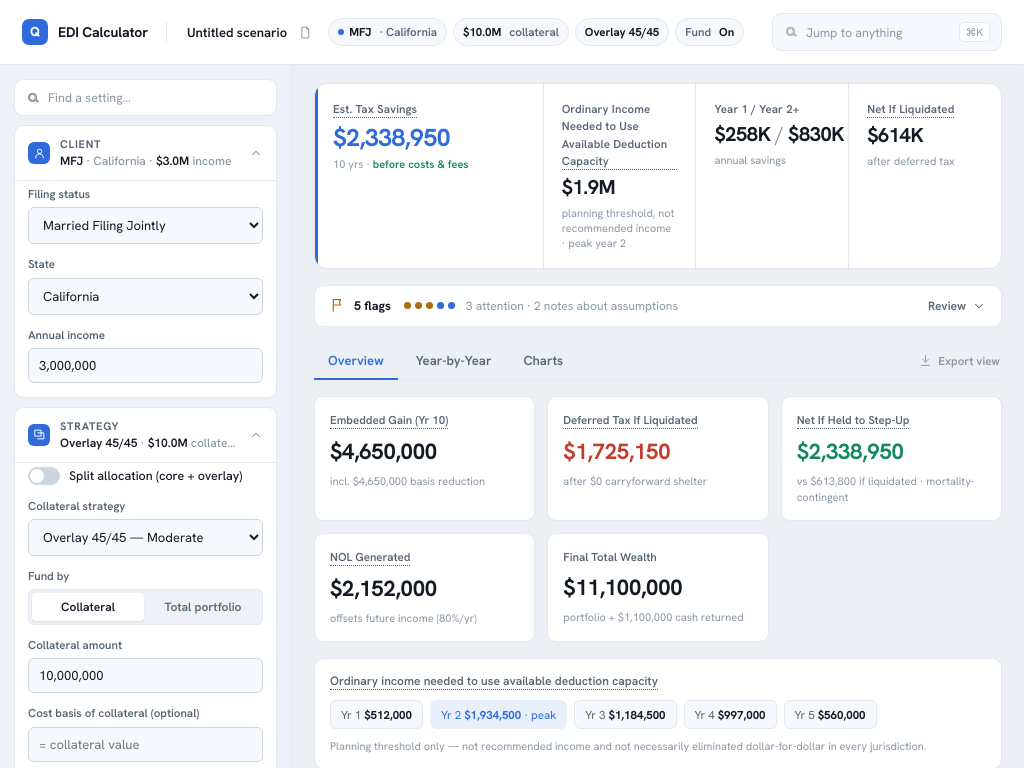
Test: Workspace redesign (D-027) › scenario name is inline-editable and persists to localStorage
Click the button with test id "wx-scenario-name" at (237, 32), box [183,22,291,42]
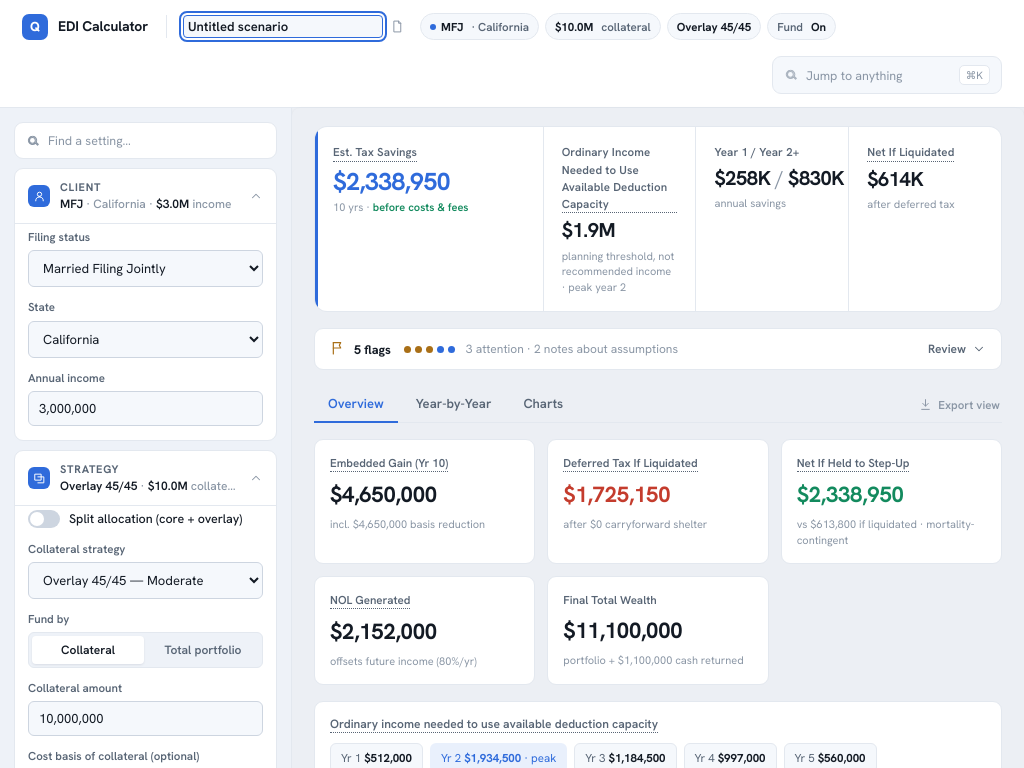
Replace the text in the field named "Scenario name" with "Henderson — Business Sale" at (283, 27), box [183,15,383,38]
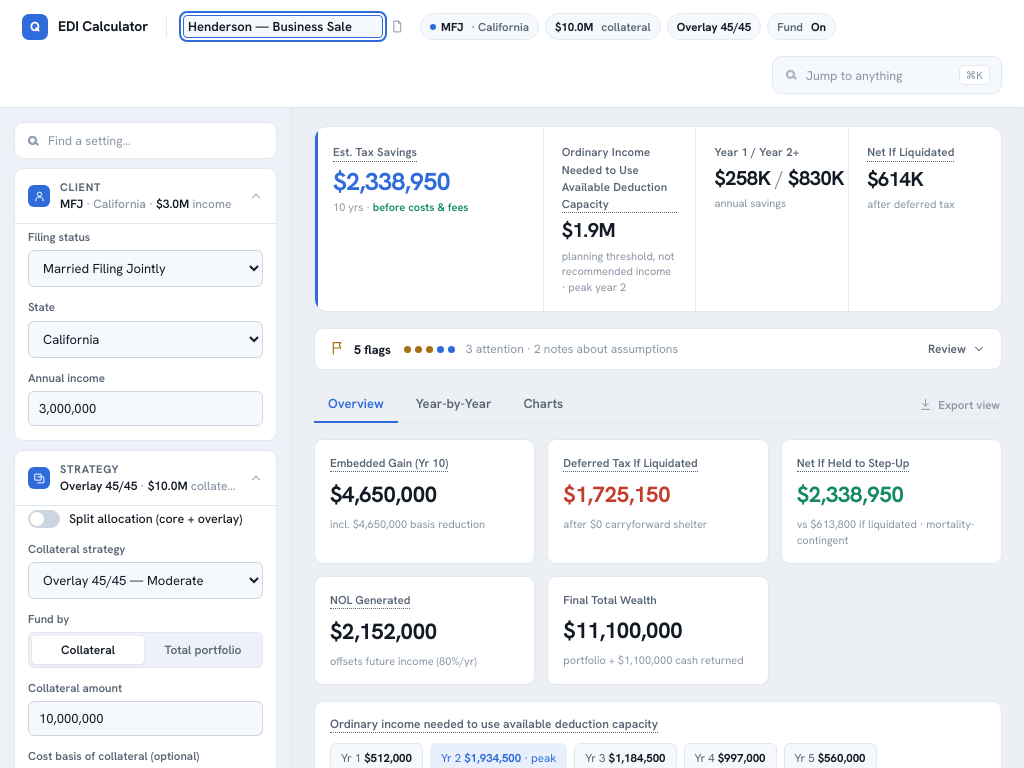
Press Enter in the field named "Scenario name", box [183,15,383,38]
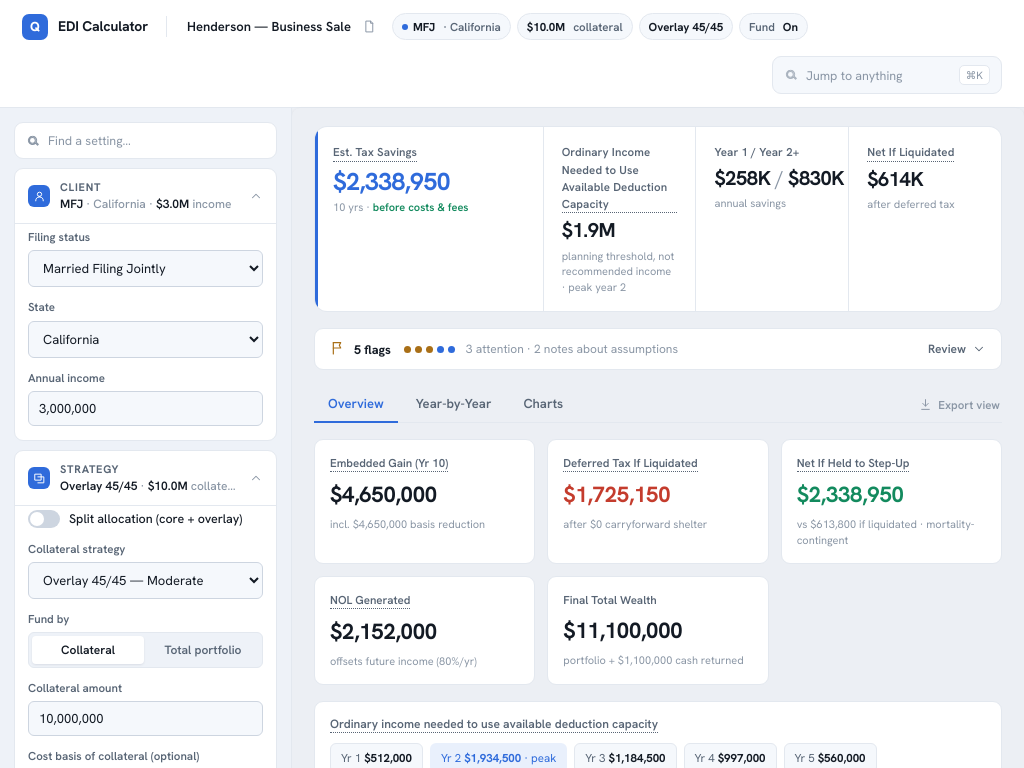
Check: the button with test id "wx-scenario-name" reads "Henderson — Business Sale", box [183,16,355,37]
